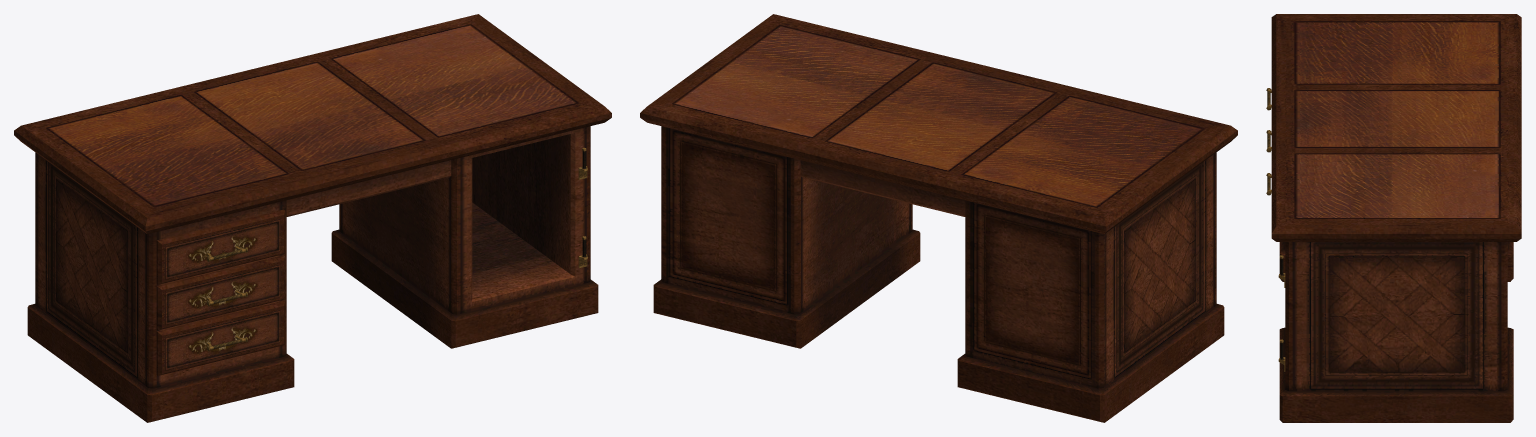
File: work_desk02.dae
The picture shows the model from 3 angles, left to right: view 1: azimuth 30°, elevation 25°; view 2: azimuth 150°, elevation 25°; view 3: azimuth 270°, elevation 25°; orthographic projection. The views are drawn at different scales.
Visible parts, largest first — view 1: work_desk_table_mesh, polySurface8, polySurface9, polySurface10; view 2: work_desk_table_mesh; view 3: work_desk_table_mesh.
Part boxes in pixels (box(x1,y1,x2,y2)): work_desk_table_mesh: box(14, 14, 611, 422); polySurface8: box(156, 300, 284, 375); polySurface9: box(156, 255, 284, 330); polySurface10: box(156, 209, 284, 284); work_desk_table_mesh: box(640, 14, 1237, 422); work_desk_table_mesh: box(1271, 14, 1521, 422).
Bounding box in the file's own units: 2.34 × 1 × 1.17.
Materials: 1 (1 with a texture image).
